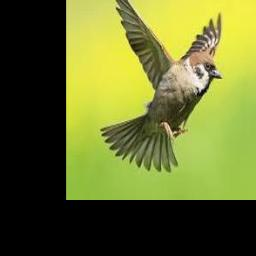Sparrow: (100, 0, 222, 173)
